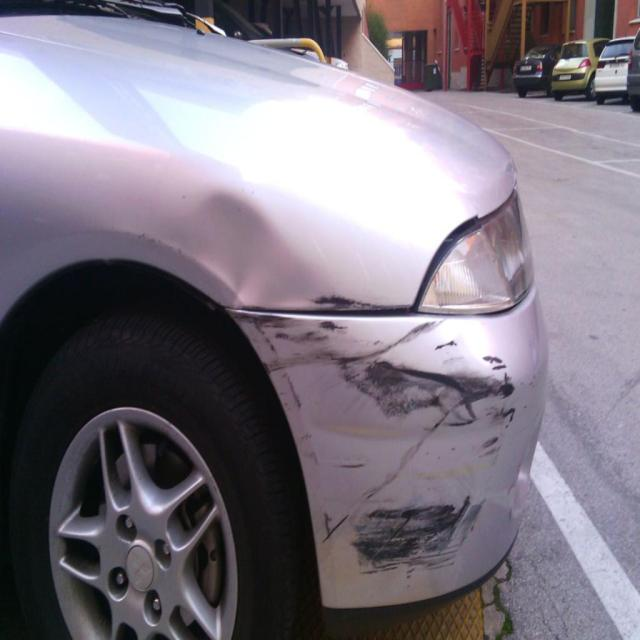Damage: (122, 130, 518, 609)
